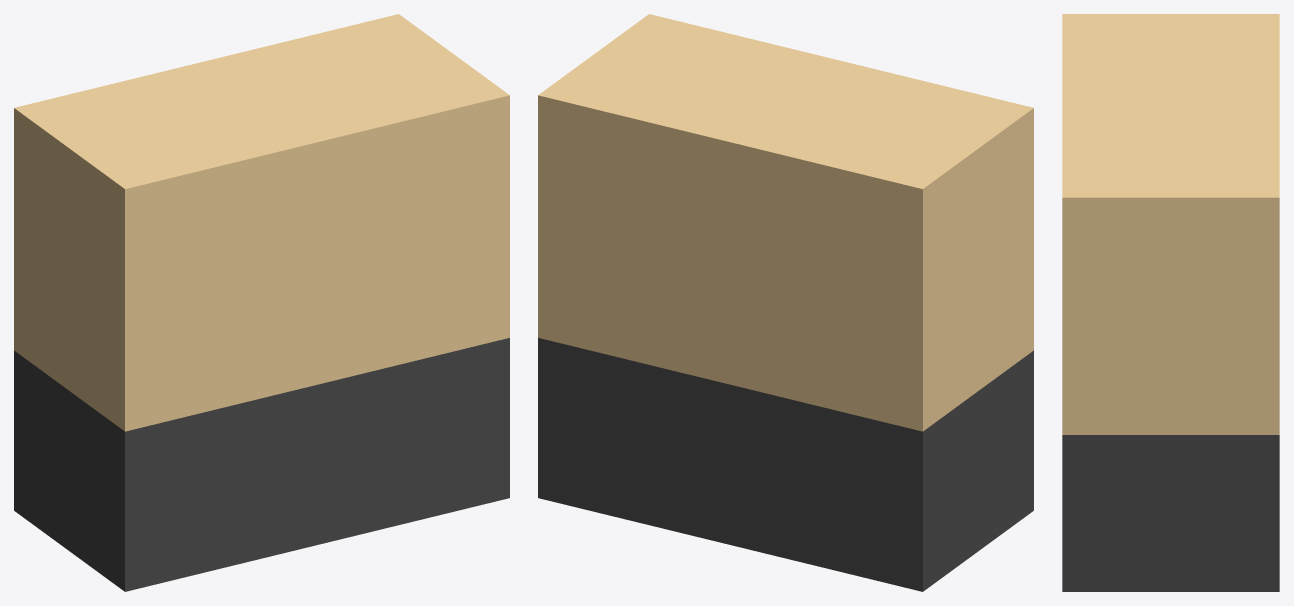
Rendered from wall_3.fbx.
3 renders of one model, left to right at view 1: azimuth 30°, elevation 25°; view 2: azimuth 150°, elevation 25°; view 3: azimuth 270°, elevation 25°, orthographic. The views are drawn at different scales.
Parts seen in each view (by area): view 1: mesh_WallBrick.002; view 2: mesh_WallBrick.002; view 3: mesh_WallBrick.002.
Part boxes in pixels (left/top/right/bottom): mesh_WallBrick.002: left=14, top=14, right=509, bottom=591; mesh_WallBrick.002: left=538, top=14, right=1033, bottom=591; mesh_WallBrick.002: left=1062, top=14, right=1279, bottom=591.
Size of the model in its own units: 1 by 1 by 0.5.
